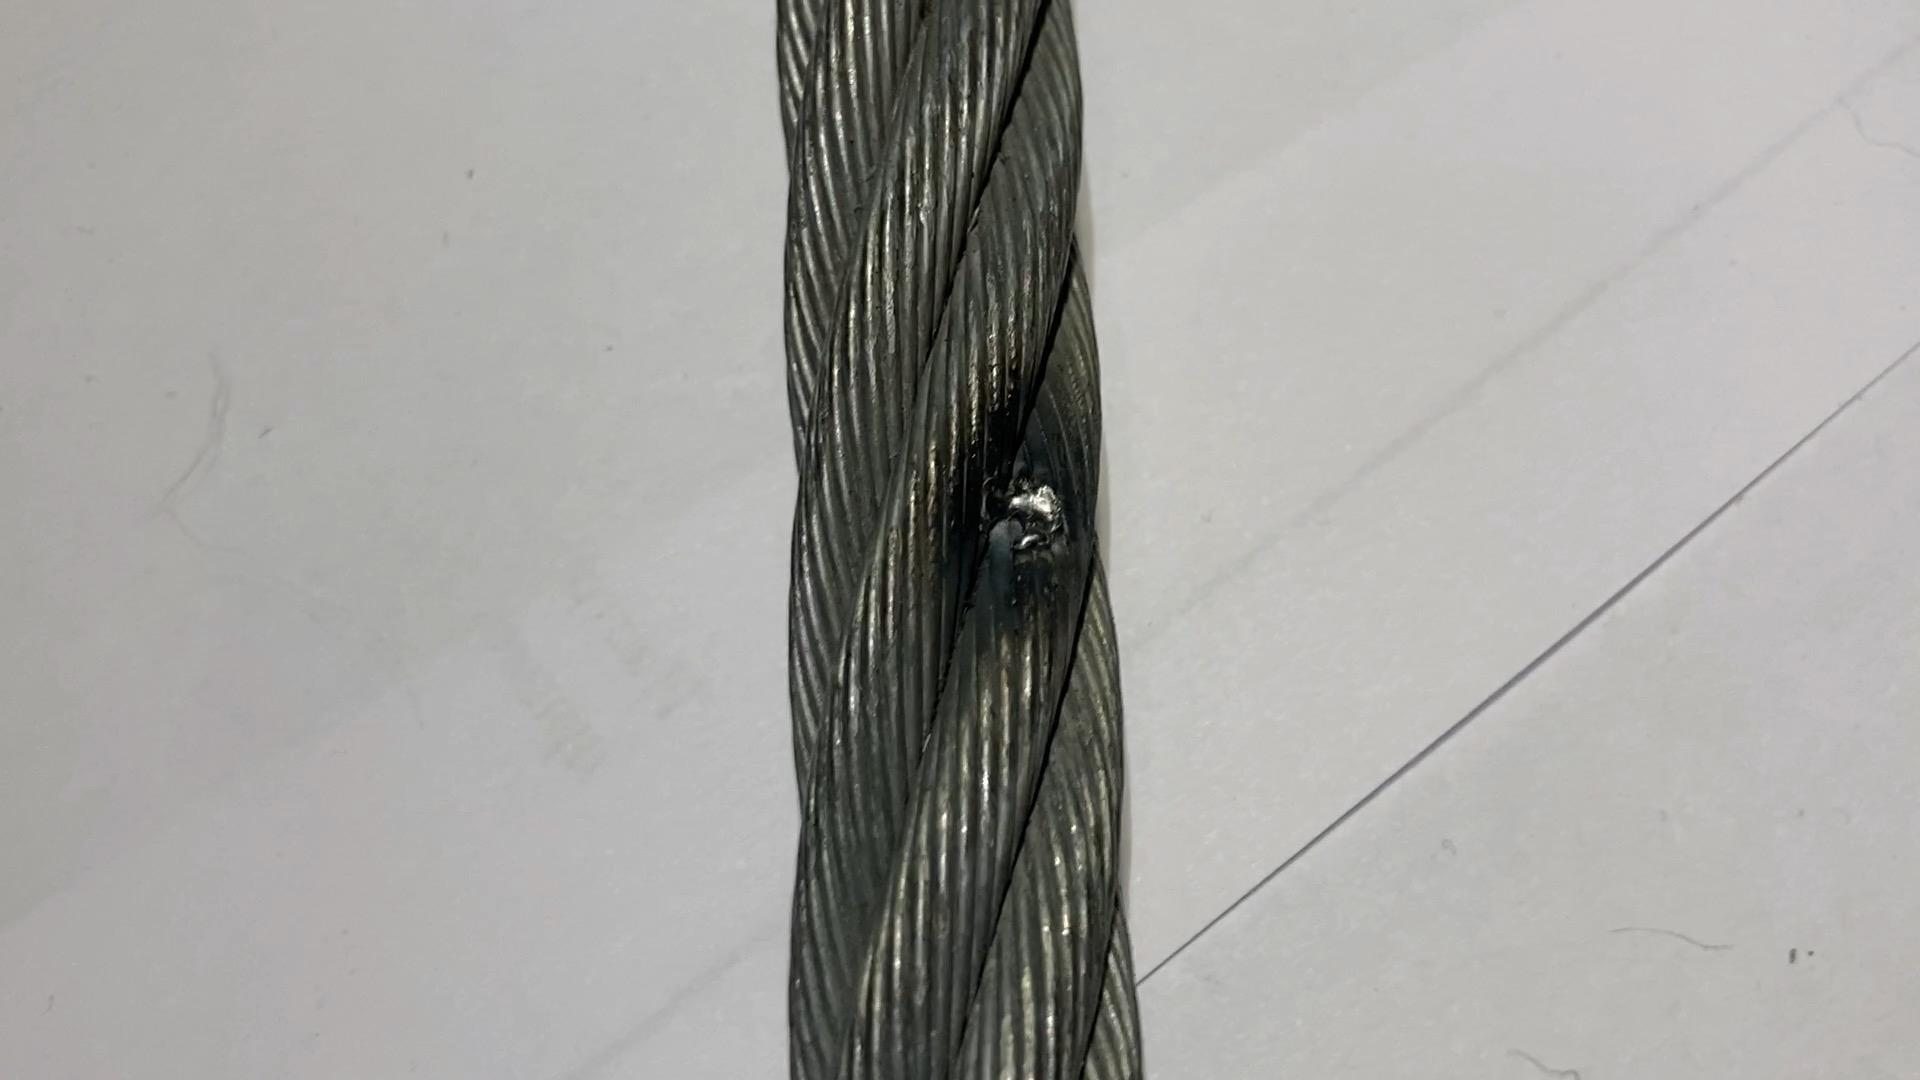thunderbolt: (951, 419, 1093, 580)
